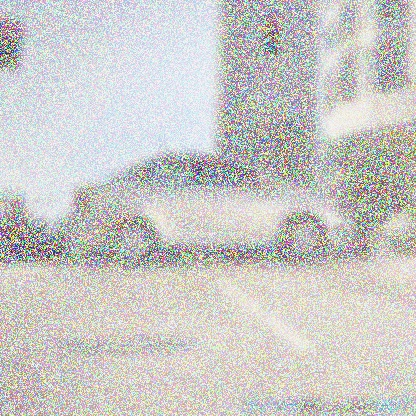Vehicle: (66, 134, 356, 268)
